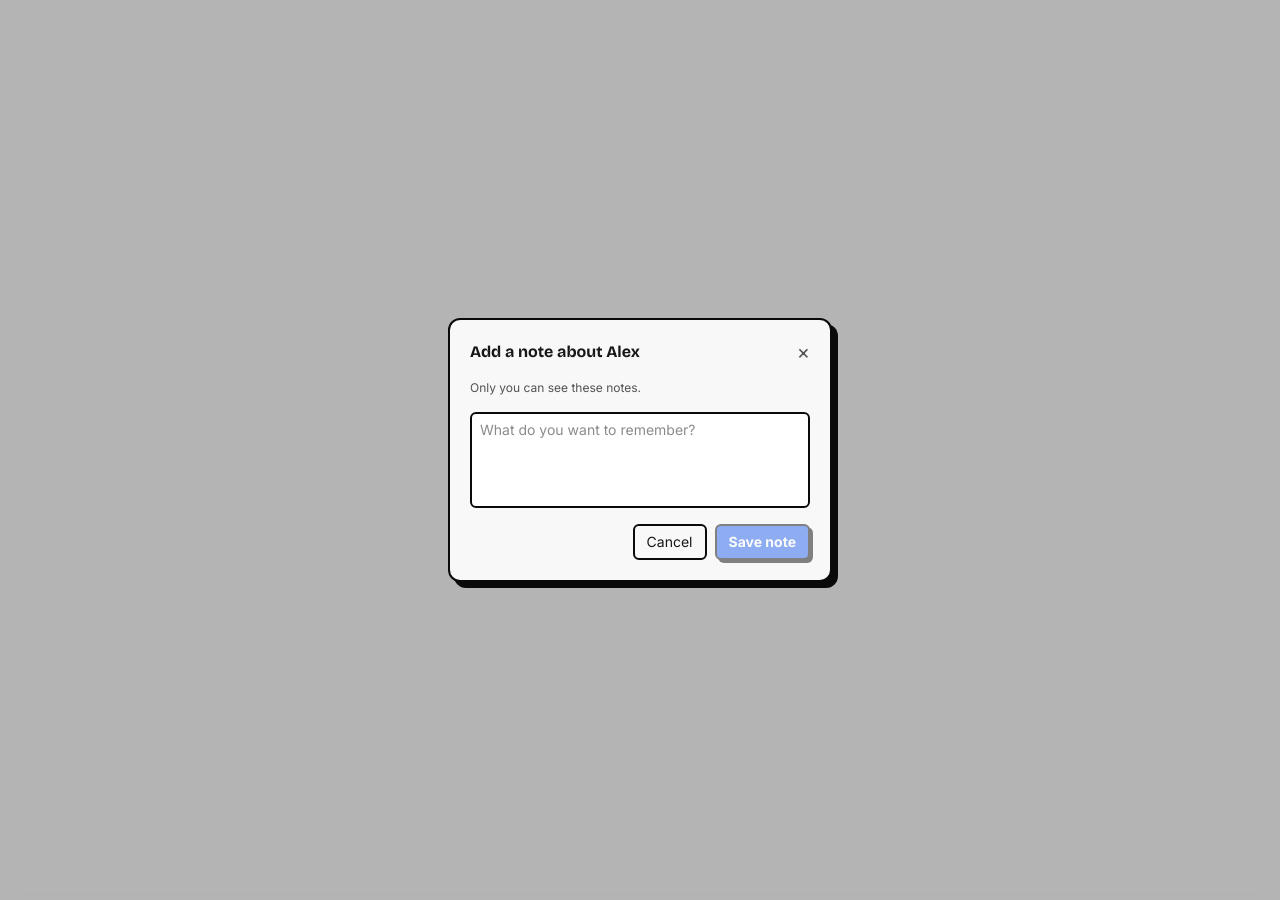
Test: AddNoteModal › on a failed save shows the friendly error and keeps the draft text
The image size is (1280, 900).
Type "Keep me" into the text box with placeholder "What do you want to remember?".
click(640, 460); type("Keep me")  # box [470,412,810,508]
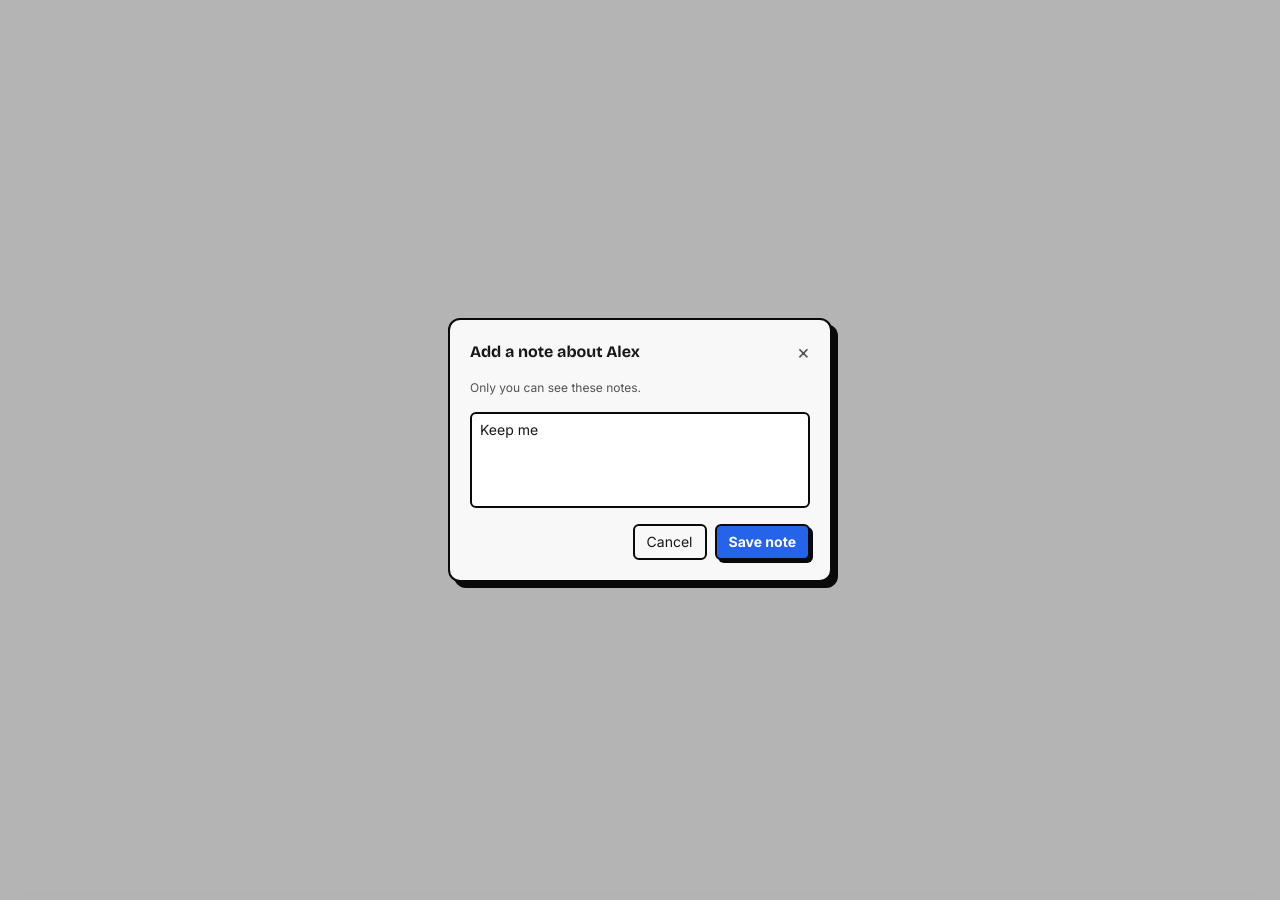
Click the button with test id "note-save".
click(762, 542)  # box [714,524,810,560]
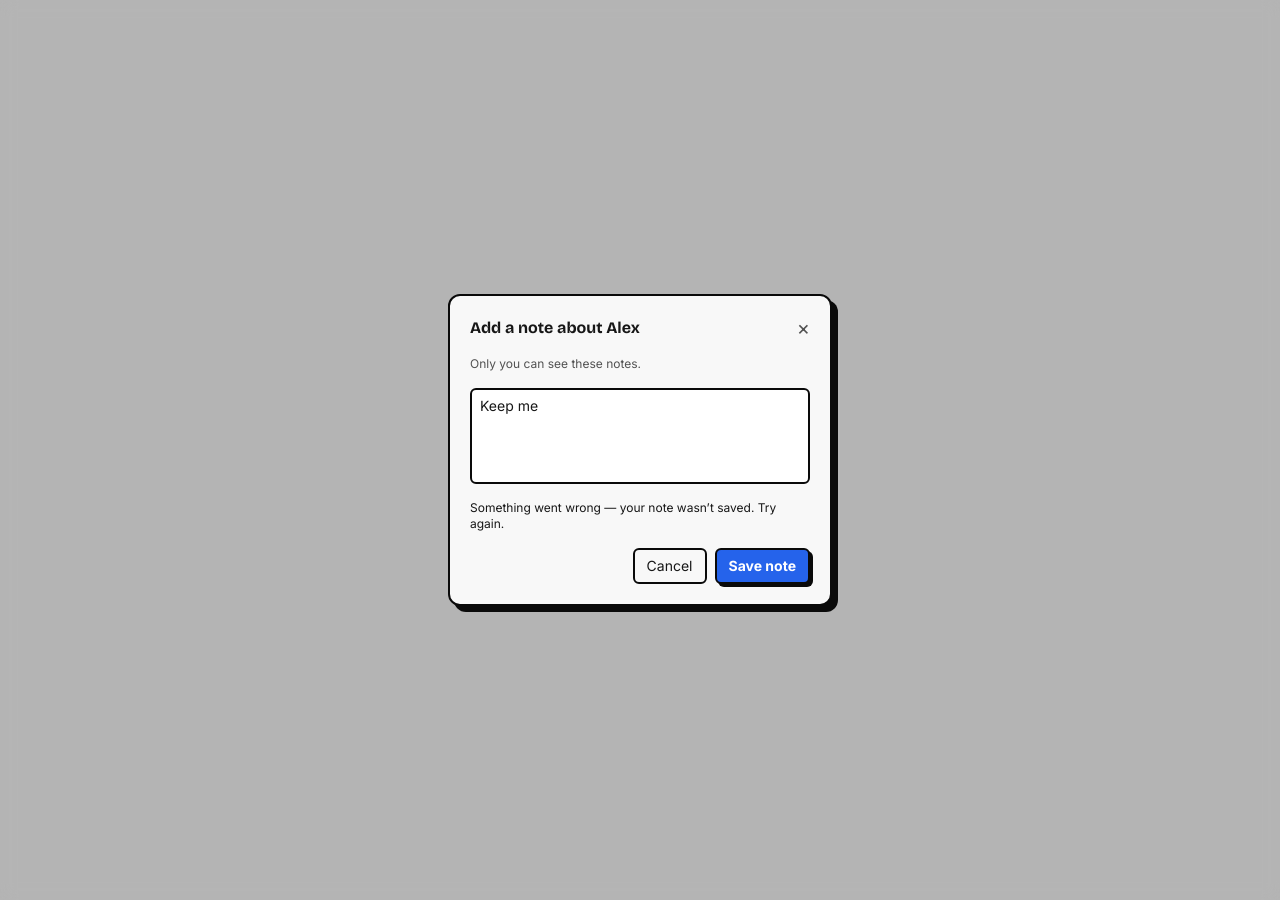
Result: the text "Something went wrong — your note wasn’t saved. Try again." is shown at [470,500,810,532]
